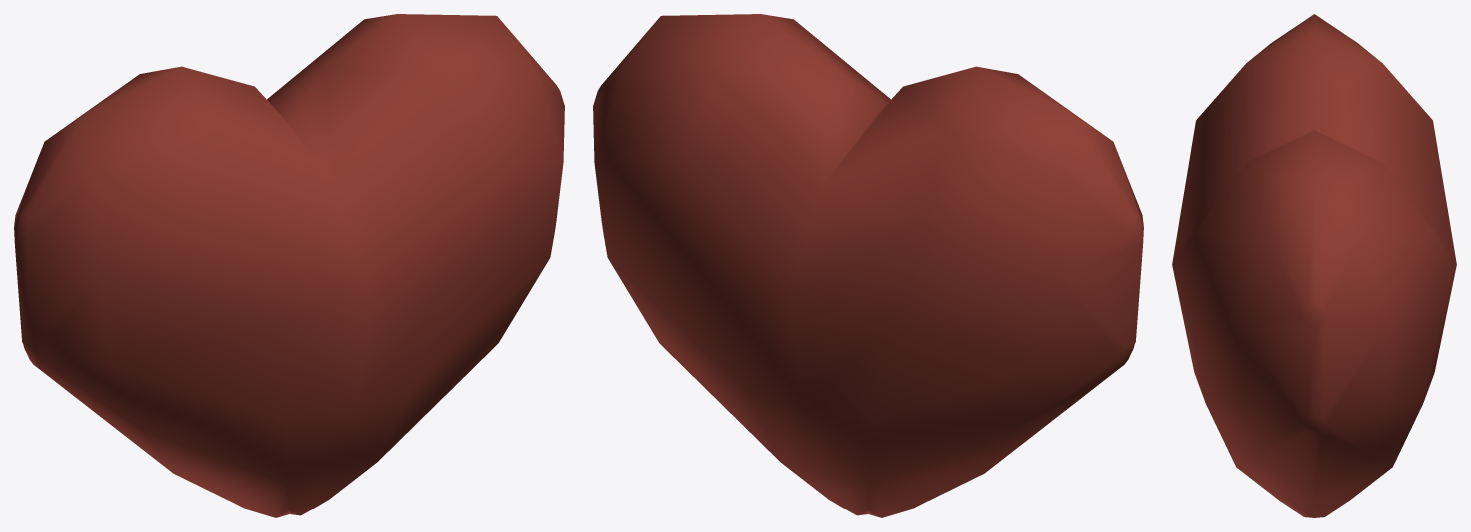
Rendered from heart.fbx.
3 renders of one model, left to right at view 1: azimuth 30°, elevation 25°; view 2: azimuth 150°, elevation 25°; view 3: azimuth 270°, elevation 25°, orthographic. The views are drawn at different scales.
Parts seen in each view (by area): view 1: Cube.007; view 2: Cube.007; view 3: Cube.007.
Part boxes in pixels (x1,y1,x2,y2): Cube.007: (14, 14, 564, 517); Cube.007: (593, 14, 1143, 517); Cube.007: (1172, 14, 1456, 517).
Size of the model in its own units: 241 by 198 by 119.
